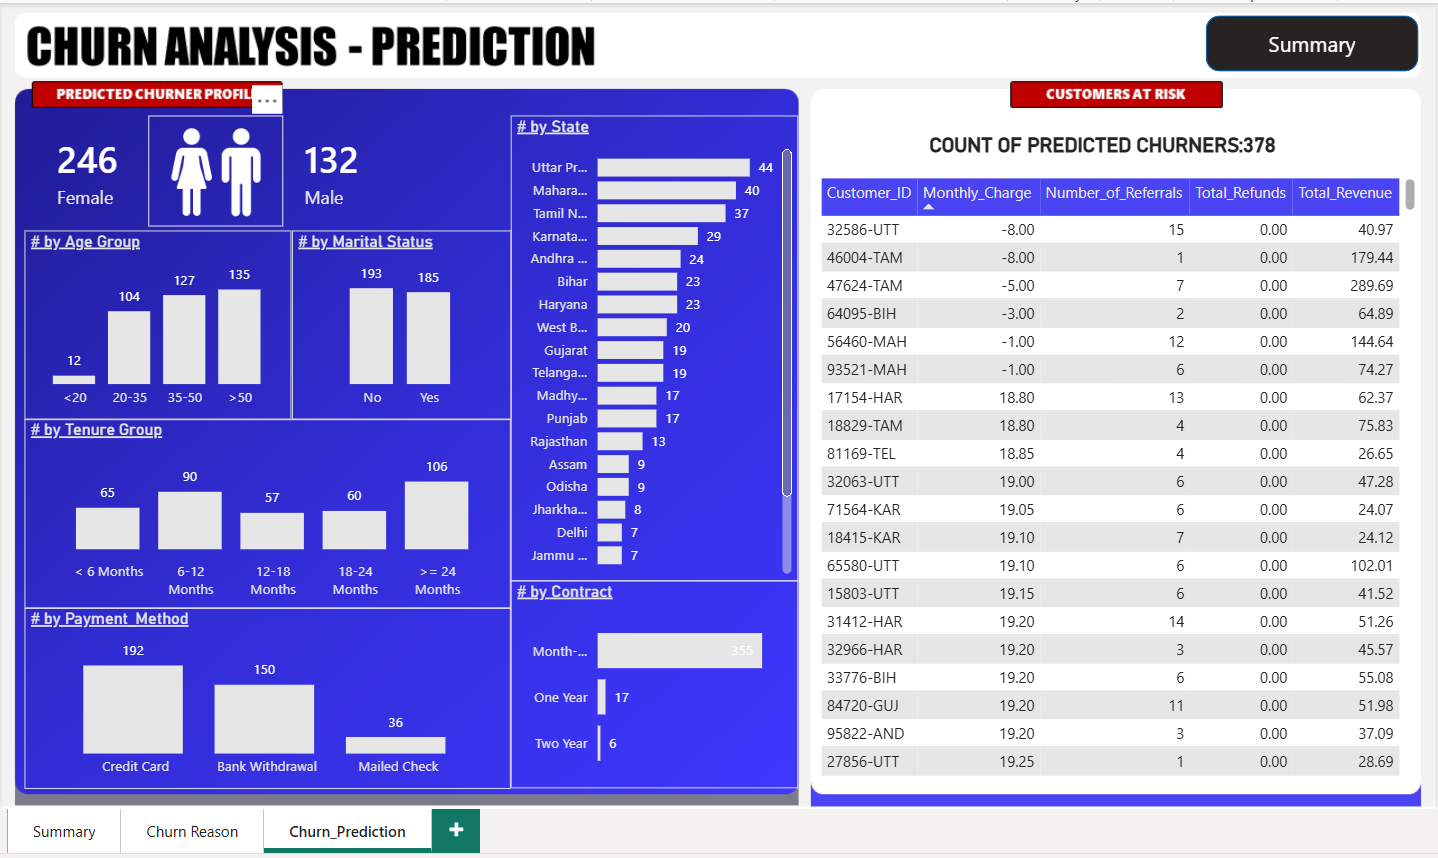

The page's visual inventory and layout, read from the dashboard file:
{"tool":"powerbi","page":{"name":"Churn_Prediction","canvas":[1280,720],"ordinal":2},"visuals":[{"type":"tableEx","fields":{"Values":["Predictions.Customer_ID","Predictions.Monthly_Charge","Predictions.Number_of_Referrals","Predictions.Total_Refunds","Predictions.Total_Revenue"]},"box":[725.7,151.4,541.4,550],"z":0},{"type":"cardVisual","fields":{"Data":["tbl_Measures.Title Predicted Churners"]},"box":[800,100,435.7,51.4],"z":1000},{"type":"cardVisual","fields":{"Data":["tbl_Measures.Count Predicted Churner"]},"box":[20,100,120,100],"z":2000},{"type":"cardVisual","fields":{"Data":["tbl_Measures.Count Predicted Churner"]},"box":[241.4,100,120,100],"z":3000},{"type":"clusteredColumnChart","fields":{"Category":["Mapping_Age.Age Group"],"Y":["CountNonNull(Predictions.Customer_ID)"]},"box":[20,202.9,238.6,168.6],"z":4000},{"type":"clusteredColumnChart","fields":{"Category":["Predictions.Married"],"Y":["CountNonNull(Predictions.Customer_ID)"]},"box":[258.6,202.9,195.7,168.6],"z":5000},{"type":"clusteredColumnChart","fields":{"Y":["CountNonNull(Predictions.Customer_ID)"],"Category":["Mapping_TenureGrp.Tenure Group"]},"box":[20,371.4,434.3,168.6],"z":6000},{"type":"clusteredBarChart","fields":{"Category":["Predictions.Contract"],"Y":["CountNonNull(Predictions.Customer_ID)"]},"box":[454.3,515.7,257.1,185.7],"z":7000},{"type":"clusteredBarChart","fields":{"Y":["CountNonNull(Predictions.Customer_ID)"],"Category":["Predictions.State"]},"box":[454.3,100,257.1,415.7],"z":8000},{"type":"clusteredColumnChart","fields":{"Y":["CountNonNull(Predictions.Customer_ID)"],"Category":["Predictions.Payment_Method"]},"box":[20,540,434.3,161.4],"z":9000},{"type":"image","box":[130.7,100,120,100],"z":10000},{"type":"shape","box":[1075.7,11.4,190,50],"z":11000}]}

Visuals, with their boxes on the page's 1280x720 design canvas (x1, y1, x2, y2). These are canvas units, not pixel positions in the 1438x858 screenshot, which may show the page scaled, cropped or inside an application window:
tableEx - Predictions.Customer_ID x Predictions.Monthly_Charge: <region>726, 151, 1267, 701</region>
cardVisual - tbl_Measures.Title Predicted Churners: <region>800, 100, 1236, 151</region>
cardVisual - tbl_Measures.Count Predicted Churner: <region>20, 100, 140, 200</region>
cardVisual - tbl_Measures.Count Predicted Churner: <region>241, 100, 361, 200</region>
clusteredColumnChart - Mapping_Age.Age Group x CountNonNull(Predictions.Customer_ID): <region>20, 203, 259, 372</region>
clusteredColumnChart - Predictions.Married x CountNonNull(Predictions.Customer_ID): <region>259, 203, 454, 372</region>
clusteredColumnChart - CountNonNull(Predictions.Customer_ID) x Mapping_TenureGrp.Tenure Group: <region>20, 371, 454, 540</region>
clusteredBarChart - Predictions.Contract x CountNonNull(Predictions.Customer_ID): <region>454, 516, 711, 701</region>
clusteredBarChart - CountNonNull(Predictions.Customer_ID) x Predictions.State: <region>454, 100, 711, 516</region>
clusteredColumnChart - CountNonNull(Predictions.Customer_ID) x Predictions.Payment_Method: <region>20, 540, 454, 701</region>
image: <region>131, 100, 251, 200</region>
shape: <region>1076, 11, 1266, 61</region>
